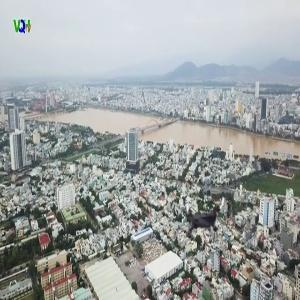drone: (180, 193, 232, 245)
